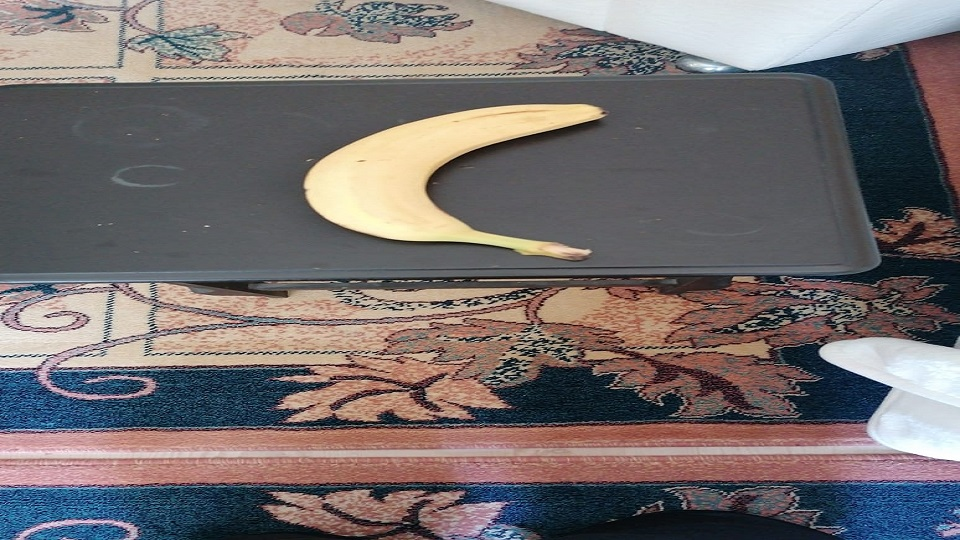muz: (302, 102, 608, 262)
